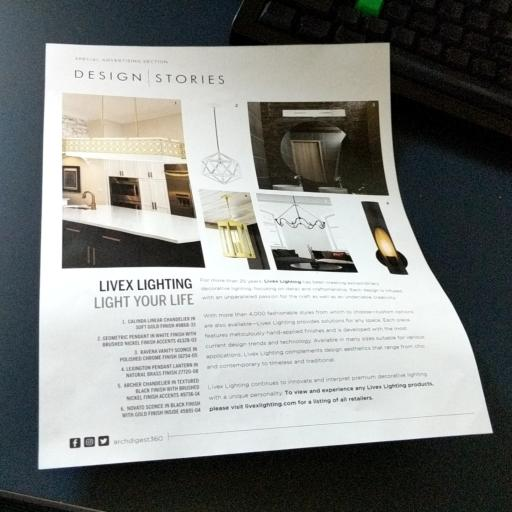paper: (7, 8, 504, 491)
